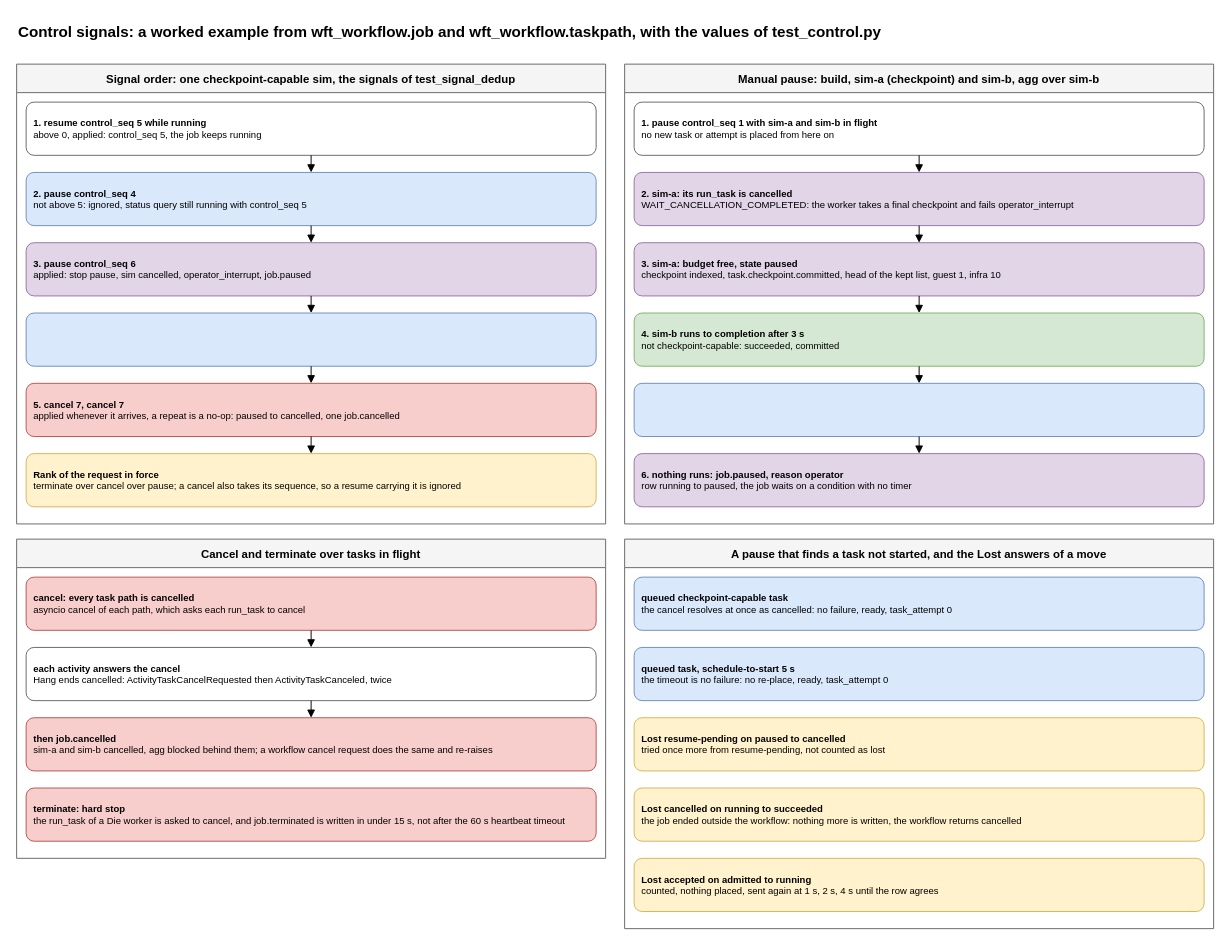
Image size: 1230x945. Some labels were removed from this diagram. The centre of each missing label's shape, as x and y in pixels:
"4. pause control_seq 6 again not above 6: ignored, one job.paused in the history" belongs at (x=310, y=339).
"5. agg ready, task_attempt 0 its input is done, but a pause places nothing" belongs at (x=918, y=409).
